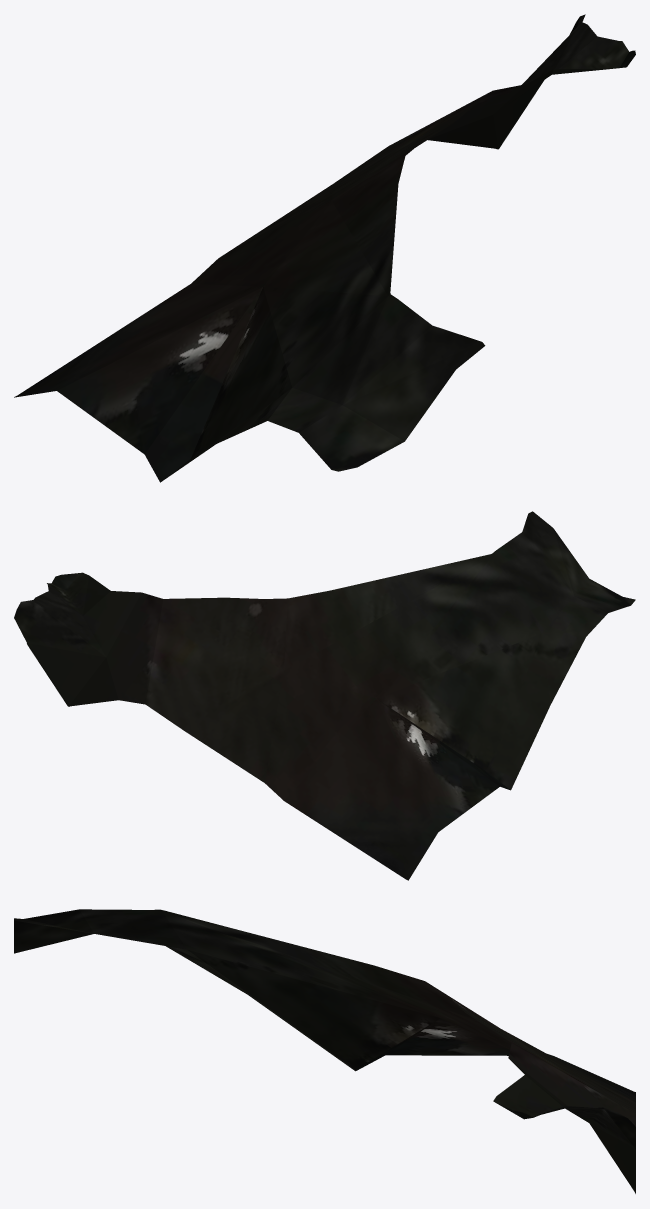
3 renders of one model, top to bottom at view 1: azimuth 30°, elevation 25°; view 2: azimuth 150°, elevation 25°; view 3: azimuth 270°, elevation 25°, orthographic. The views are drawn at different scales.
Bounding box in the file's own units: 0.8374 × 0.3602 × 0.8374.
Materials: 2 (2 with a texture image).
